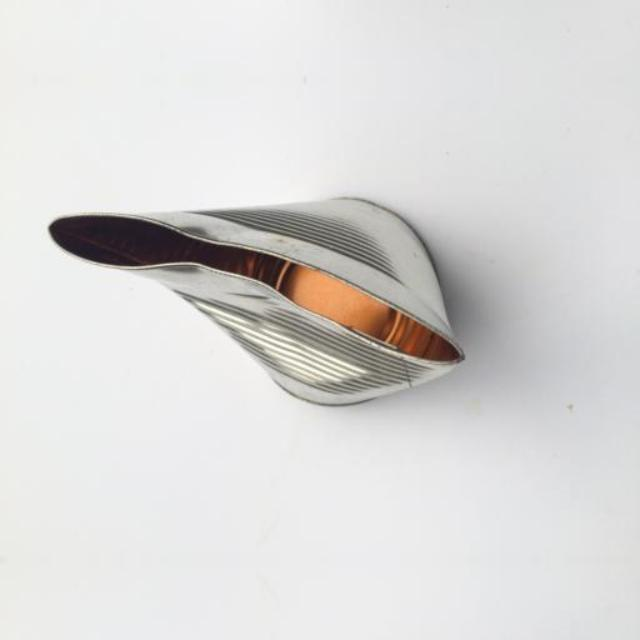Metal: (22, 166, 472, 448)
